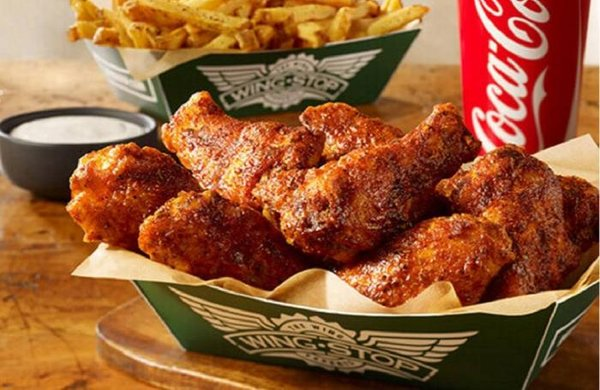sushi: (0, 106, 156, 199)
